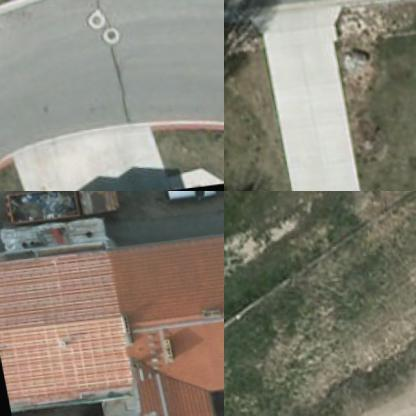car: (153, 191, 215, 206)
